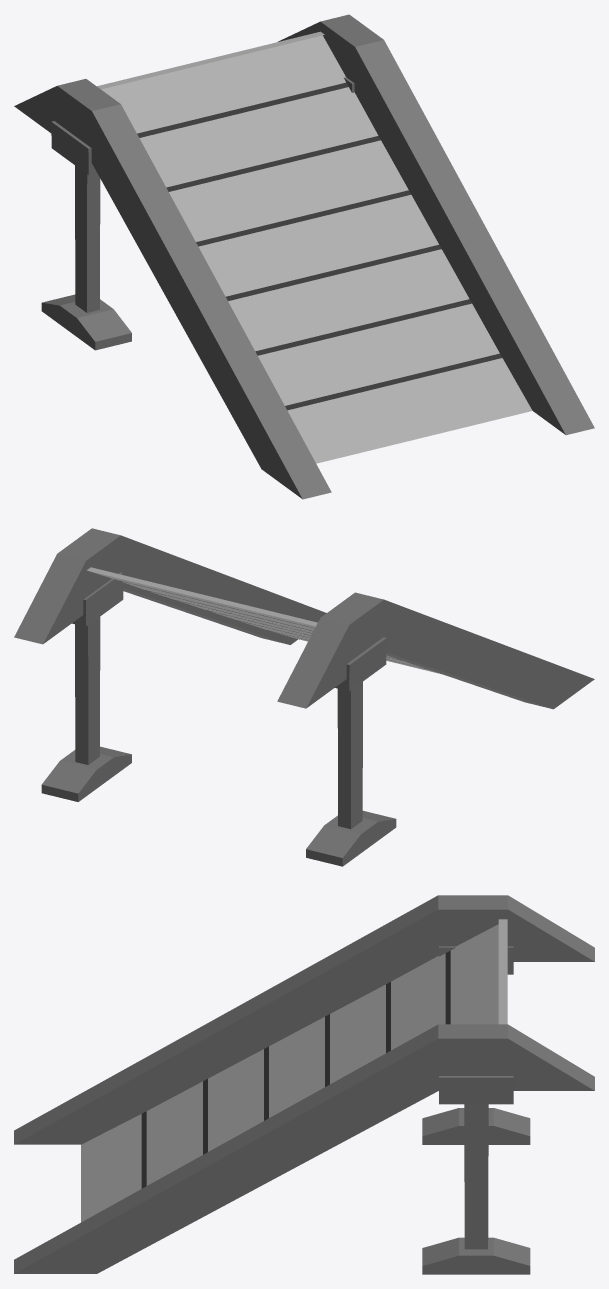
Rendered from Ramp_Sphere.obj.
3 views of the same model, one above another, from view 1: azimuth 30°, elevation 25°; view 2: azimuth 150°, elevation 25°; view 3: azimuth 270°, elevation 25° (orthographic).
Parts seen in each view (by area): view 1: Ramp_Sphere.009; view 2: Ramp_Sphere.009; view 3: Ramp_Sphere.009.
Boxes of the visible parts, x1=… form: Ramp_Sphere.009: x1=14, y1=14, x2=594, y2=499; Ramp_Sphere.009: x1=14, y1=528, x2=594, y2=866; Ramp_Sphere.009: x1=14, y1=895, x2=594, y2=1274.
Size of the model in its own units: 1.87 by 1.39 by 3.11.
